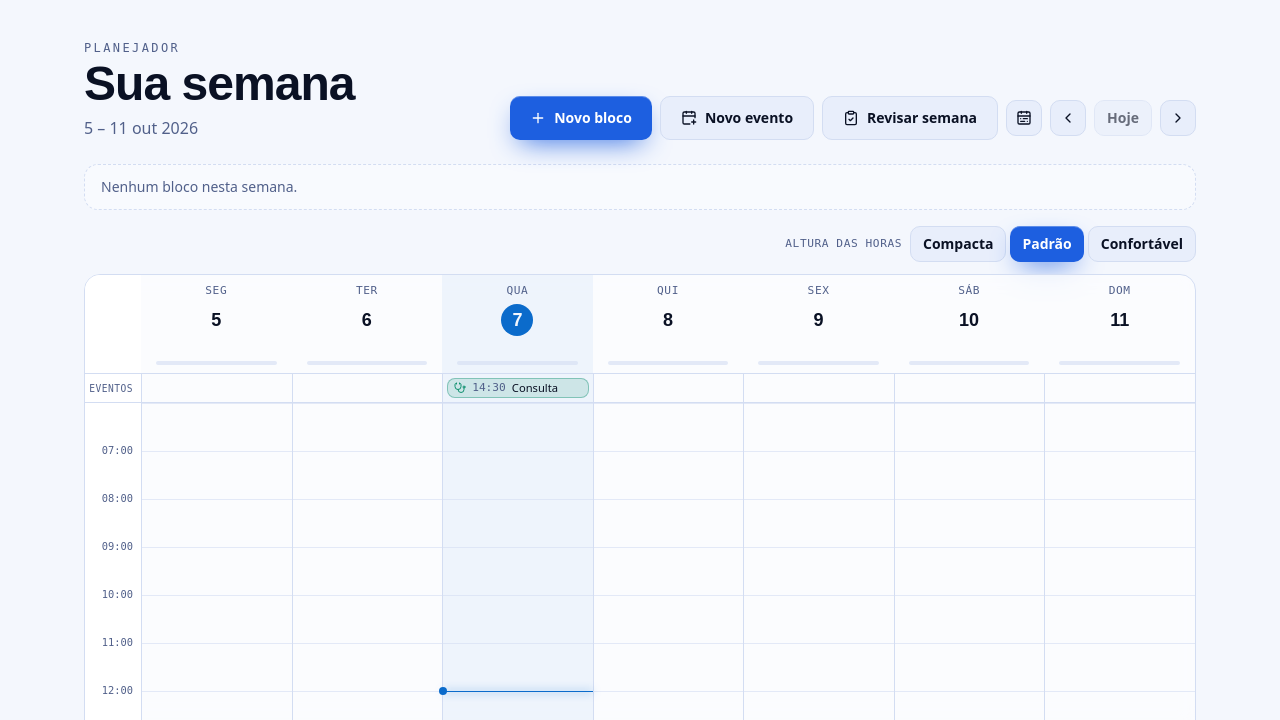
eventos na Semana › desktop (faixa no topo da grade, RF35) › clicar no evento abre os detalhes: dia, horário, lembrete, área e notas
Click the button with aria-label "Evento: Consulta" at (518, 388), box [447,378,589,398]
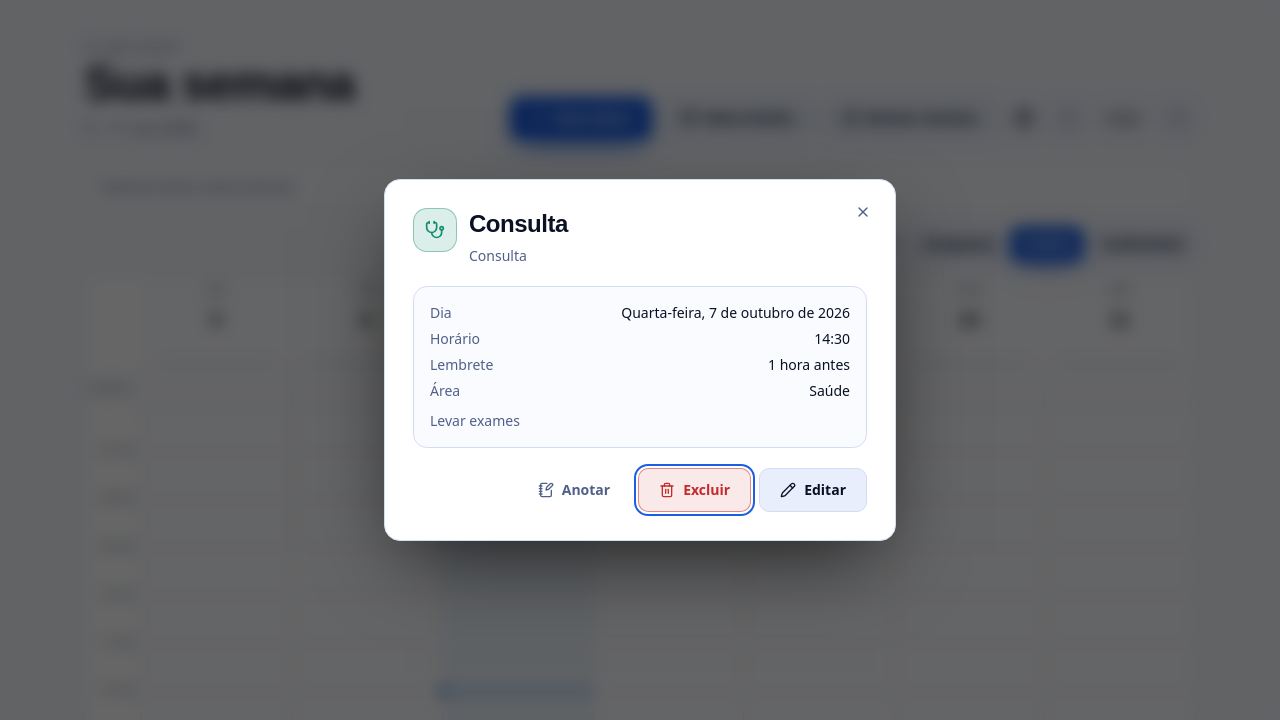
Check: the heading "Consulta" is shown, box [469,208,568,240]
Check: the text "Quarta-feira, 7 de outubro de 2026" is shown, box [621,303,850,323]
Check: the text "14:30" is shown, box [814,329,850,349]
